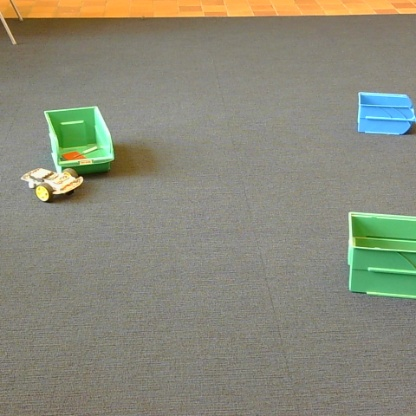robot: (21, 168, 82, 201)
